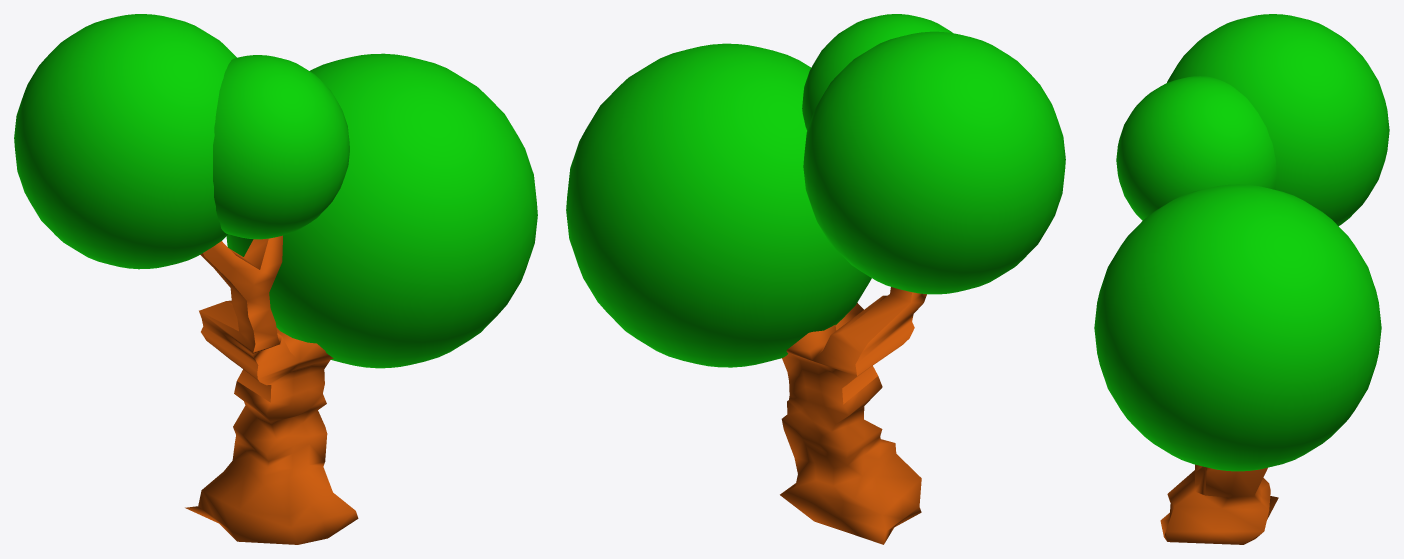
File: Tree.obj
The picture shows the model from 3 angles, left to right: view 1: azimuth 30°, elevation 25°; view 2: azimuth 150°, elevation 25°; view 3: azimuth 270°, elevation 25°; orthographic projection. The views are drawn at different scales.
Parts seen in each view (by area): view 1: Sphere, Sphere.001, Cube, Sphere.002; view 2: Sphere, Sphere.001, Cube, Sphere.002; view 3: Sphere, Sphere.001, Sphere.002, Cube.
Boxes of the visible parts, left/top/right/bottom form: Sphere: left=226, top=53, right=537, bottom=368; Sphere.001: left=14, top=14, right=236, bottom=269; Cube: left=185, top=235, right=358, bottom=544; Sphere.002: left=213, top=55, right=349, bottom=239; Sphere: left=566, top=43, right=871, bottom=367; Sphere.001: left=803, top=31, right=1065, bottom=294; Cube: left=780, top=287, right=926, bottom=544; Sphere.002: left=802, top=14, right=952, bottom=130; Sphere: left=1094, top=184, right=1381, bottom=471; Sphere.001: left=1167, top=14, right=1389, bottom=226; Sphere.002: left=1116, top=76, right=1276, bottom=220; Cube: left=1160, top=464, right=1278, bottom=544.
Size of the model in its own units: 1.94 by 1.99 by 1.16.
